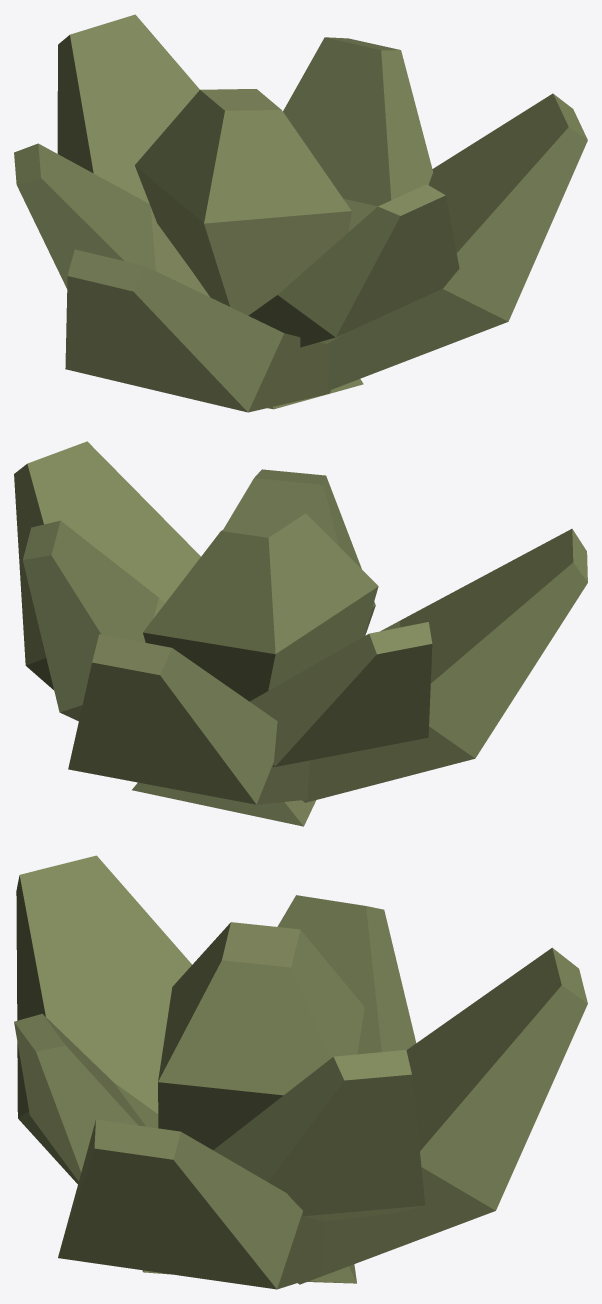
Rendered from SM_Env_Plant_02.fbx.
The picture shows the model from 3 angles, top to bottom: view 1: azimuth 30°, elevation 25°; view 2: azimuth 150°, elevation 25°; view 3: azimuth 270°, elevation 25°; orthographic projection. The views are drawn at different scales.
Parts seen in each view (by area): view 1: SM_Env_Plant_02; view 2: SM_Env_Plant_02; view 3: SM_Env_Plant_02.
Part boxes in pixels (x1,y1,x2,y2): SM_Env_Plant_02: [14, 14, 587, 412]; SM_Env_Plant_02: [14, 441, 587, 826]; SM_Env_Plant_02: [14, 855, 587, 1289].
Bounding box in the file's own units: 56.82 × 30.67 × 46.94.
